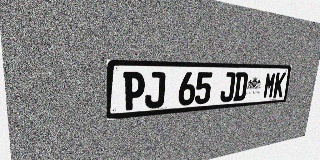5: (195, 72, 213, 105)
6: (178, 72, 197, 106)
D: (233, 72, 248, 101)
J: (144, 72, 166, 109), (219, 72, 236, 102)
K: (273, 72, 286, 98)
M: (263, 72, 276, 99)
P: (123, 72, 145, 111)
